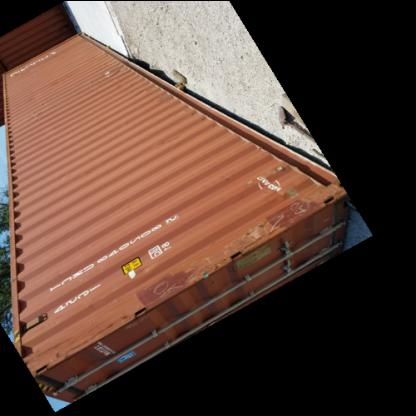Damage: (232, 191, 334, 252), (132, 250, 226, 306), (90, 63, 130, 85), (24, 99, 49, 119)
